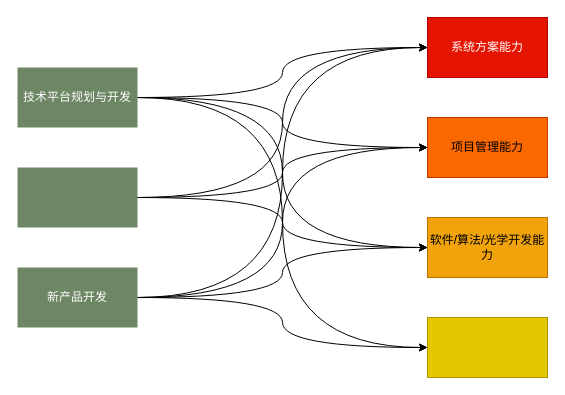
Some shapes in this 565 by 395 pixel diagram are drawn without their labels. The centre of each missing label's shape, as x and y in pixels:
"产品规划能力" belongs at pixel 487 347.
"已有平台定制开发" belongs at pixel 77 197.
